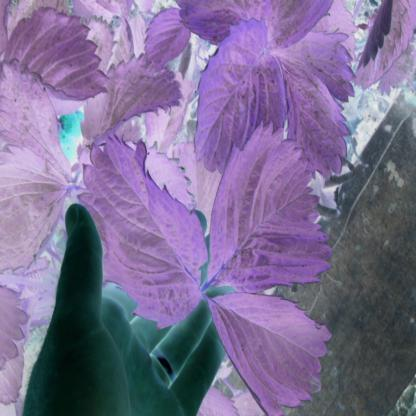Strawberry leaf: (74, 126, 214, 317), (206, 125, 332, 296), (202, 284, 334, 408)
